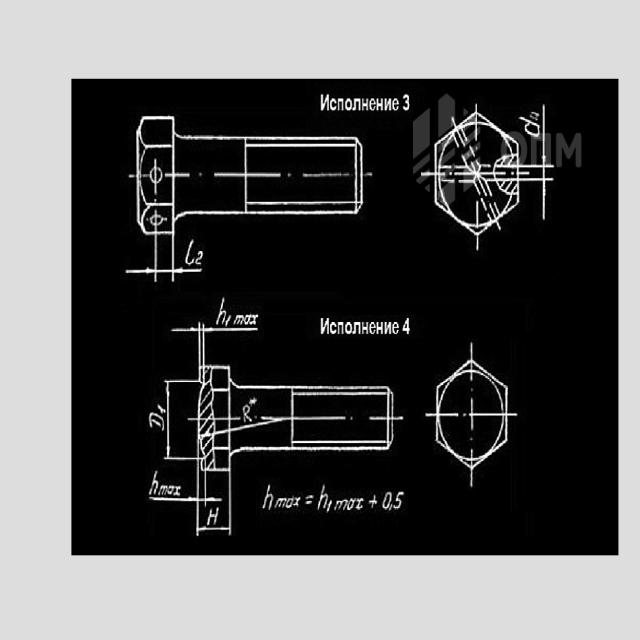marking_line: (164, 384, 173, 455), (124, 264, 152, 277), (176, 265, 203, 277)
numeric: (514, 113, 544, 135), (182, 238, 204, 267), (382, 488, 409, 511)
